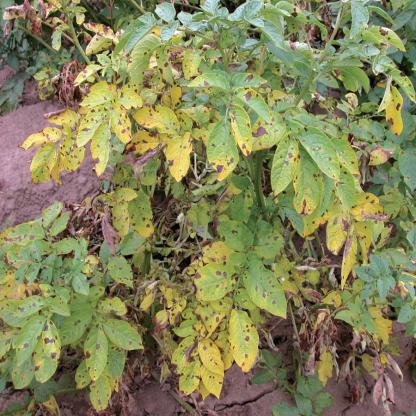Potato leaf early blight: (204, 117, 243, 187), (244, 268, 293, 318), (131, 102, 184, 138), (270, 129, 298, 197), (294, 155, 322, 218), (250, 107, 286, 150), (76, 104, 108, 150), (194, 264, 237, 296), (165, 135, 193, 179), (343, 224, 359, 294), (202, 238, 238, 268), (19, 126, 63, 150), (324, 215, 351, 253), (109, 101, 132, 145), (351, 189, 381, 221), (68, 64, 104, 83), (77, 89, 114, 107), (118, 88, 143, 108)
